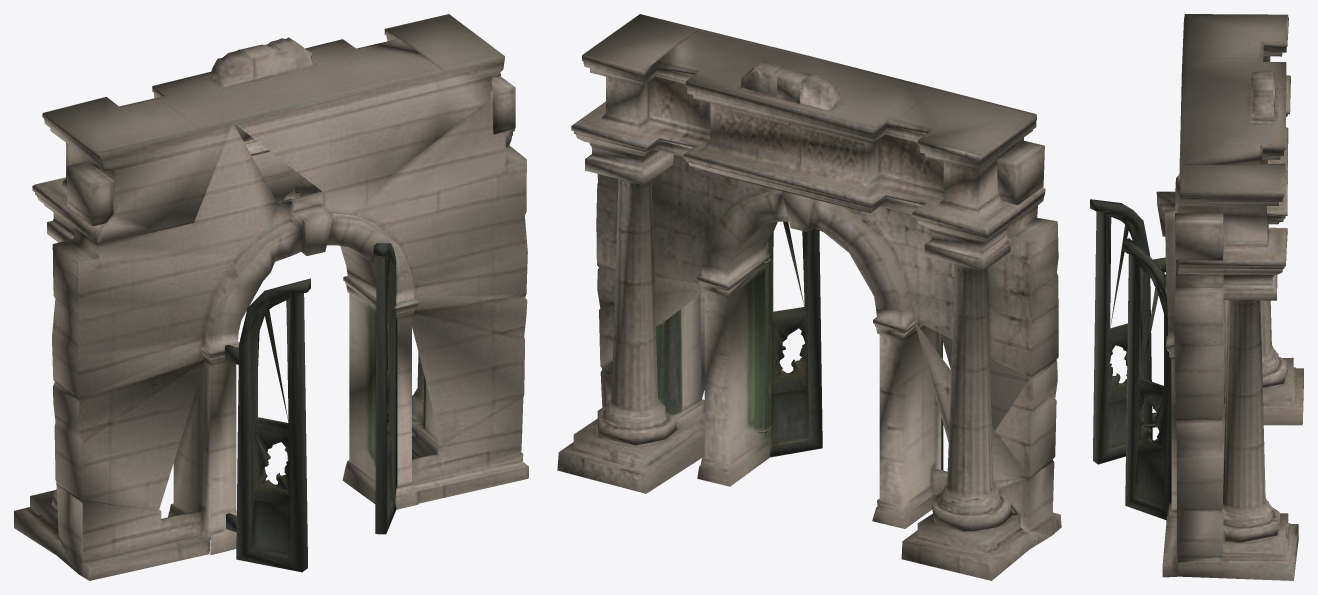
The model's file is arena_gate.glb.
3 views of the same model, side by side, from view 1: azimuth 30°, elevation 25°; view 2: azimuth 150°, elevation 25°; view 3: azimuth 270°, elevation 25° (orthographic). The views are drawn at different scales.
Bounding box in the file's own units: 6.32 × 6 × 2.9.
Materials: 1 (1 with a texture image).
